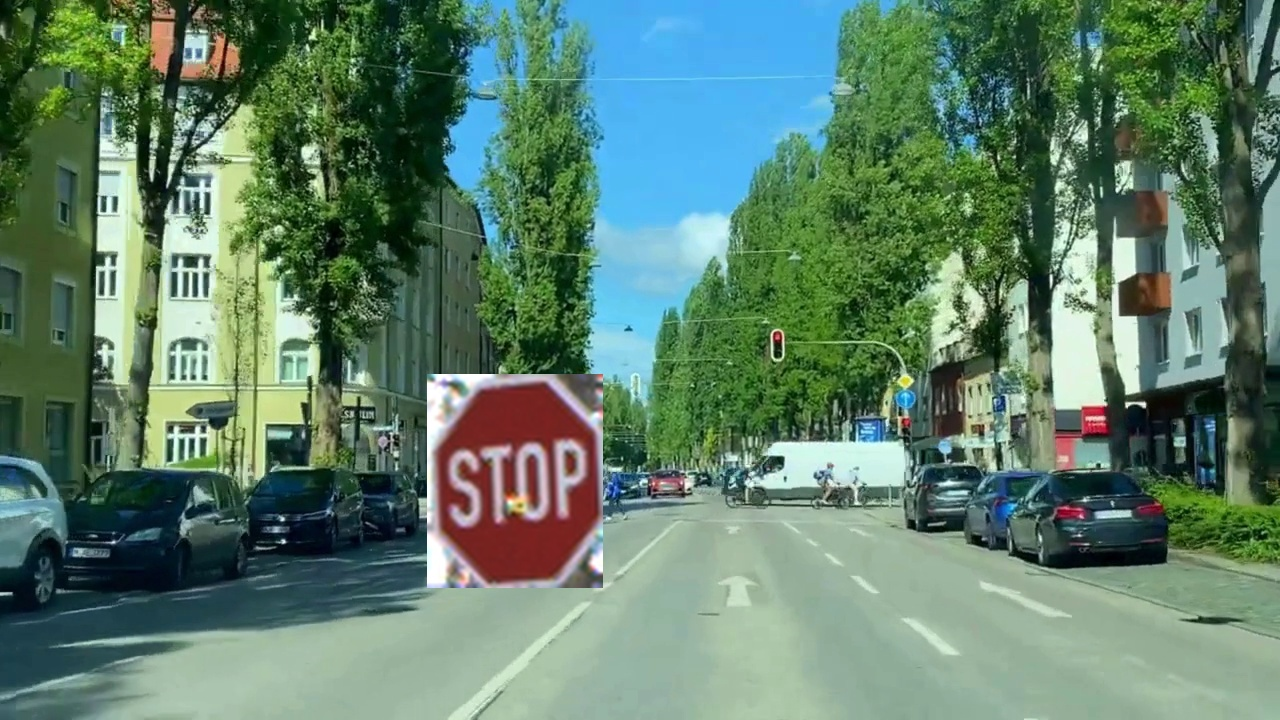Stop: (427, 374, 603, 588)
